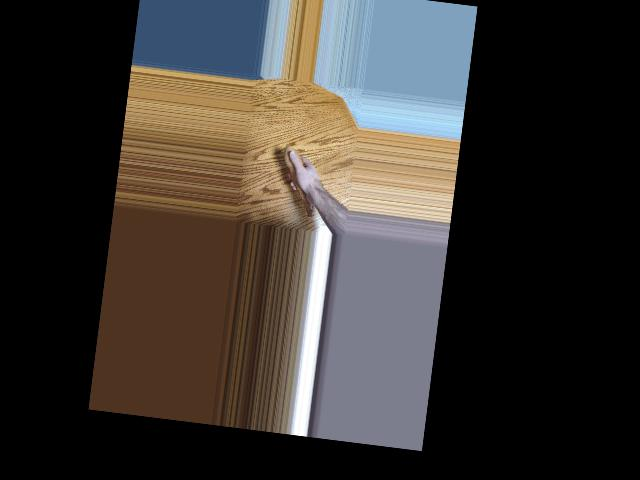sweet_potato: (277, 148, 323, 219)
